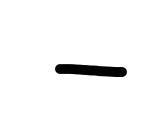minus: (57, 61, 125, 80)
